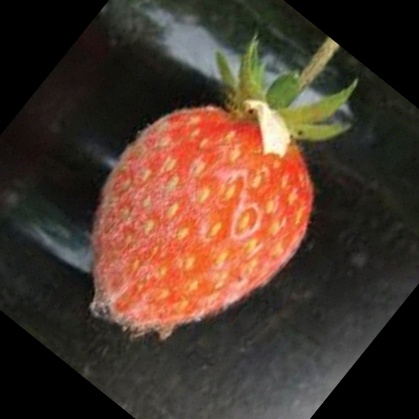Powdery_Fruit: (107, 112, 306, 359)
